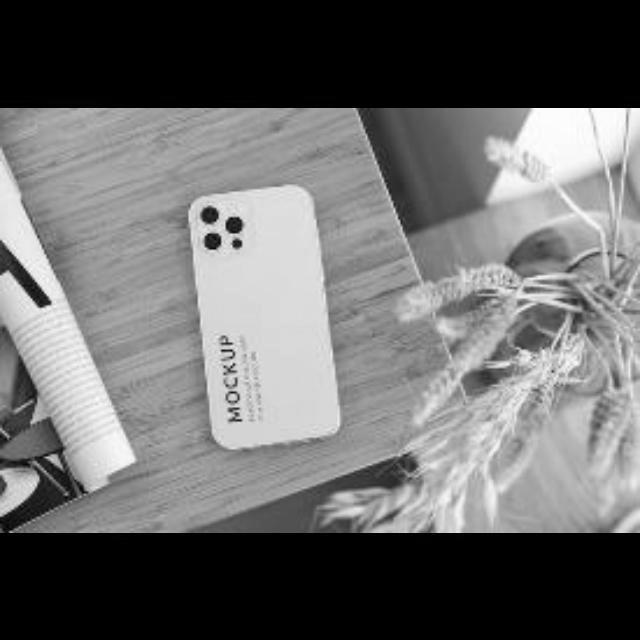fake: (186, 180, 334, 448)
